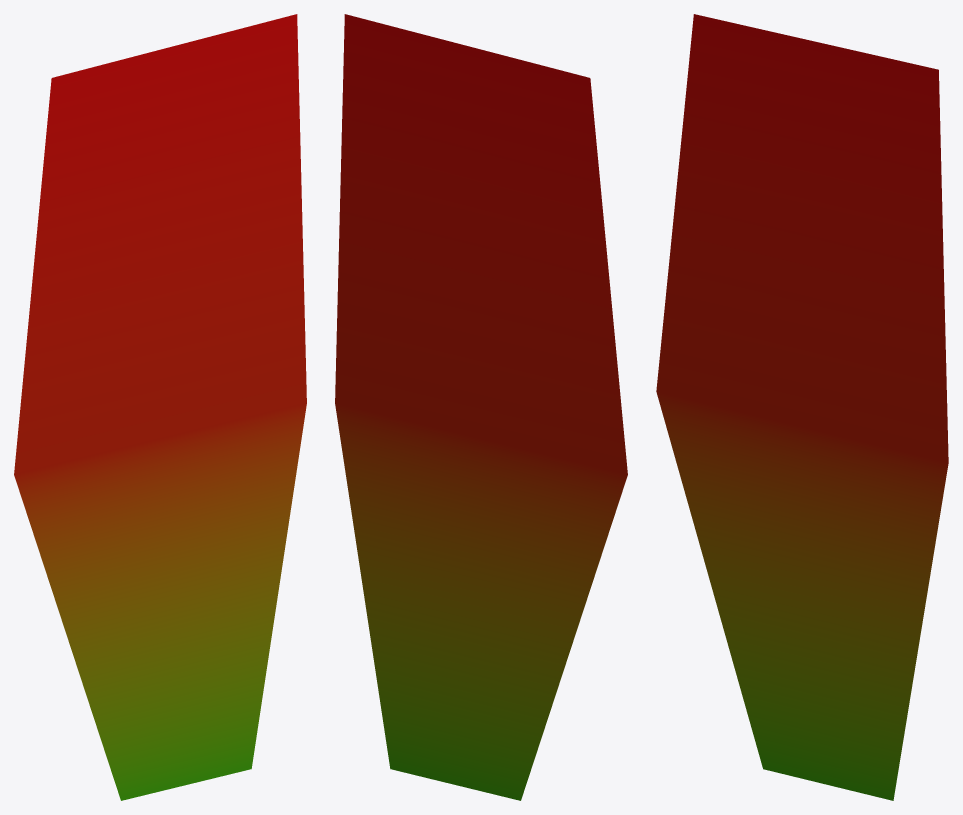
The model's file is Dragon Tree_LOD3_Var1_siumT.fbx.
3 renders of one model, left to right at view 1: azimuth 30°, elevation 25°; view 2: azimuth 150°, elevation 25°; view 3: azimuth 330°, elevation 25°, orthographic.
Visible parts, largest first — view 1: _668f_Var1_LOD3; view 2: _668f_Var1_LOD3; view 3: _668f_Var1_LOD3.
Part boxes in pixels (left/top/right/bottom): _668f_Var1_LOD3: left=14, top=14, right=306, bottom=800; _668f_Var1_LOD3: left=335, top=14, right=627, bottom=800; _668f_Var1_LOD3: left=656, top=14, right=948, bottom=800.
Size of the model in its own units: 55.94 by 136 by 2.86e-06.
